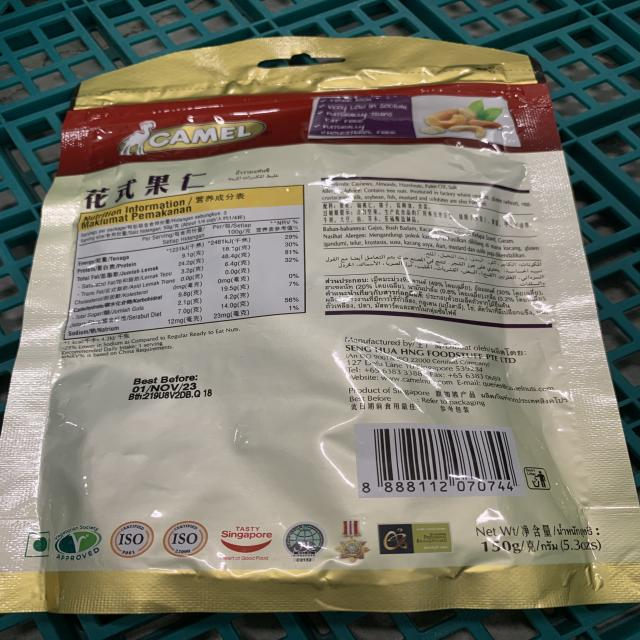object_name: (42, 48, 640, 606)
